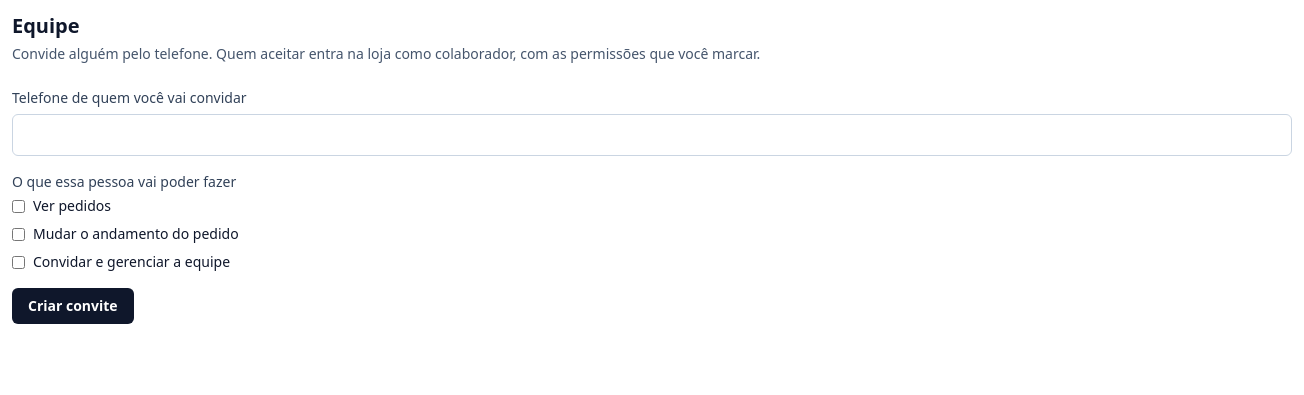
ConvidarParaEquipe › A6 · a recusa da A2 na emissão vai à tela como veio
Type "(81) 98765-4321" into the field labelled "Telefone de quem você vai convidar" at (652, 135), box [12, 114, 1292, 156]
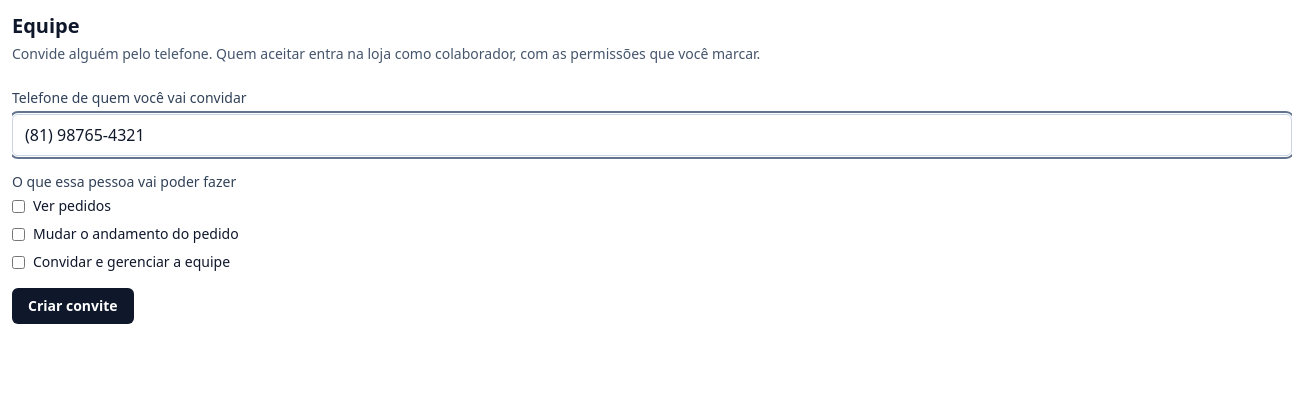
Click the checkbox labelled "Ver pedidos" at (18, 206), box [12, 200, 25, 212]
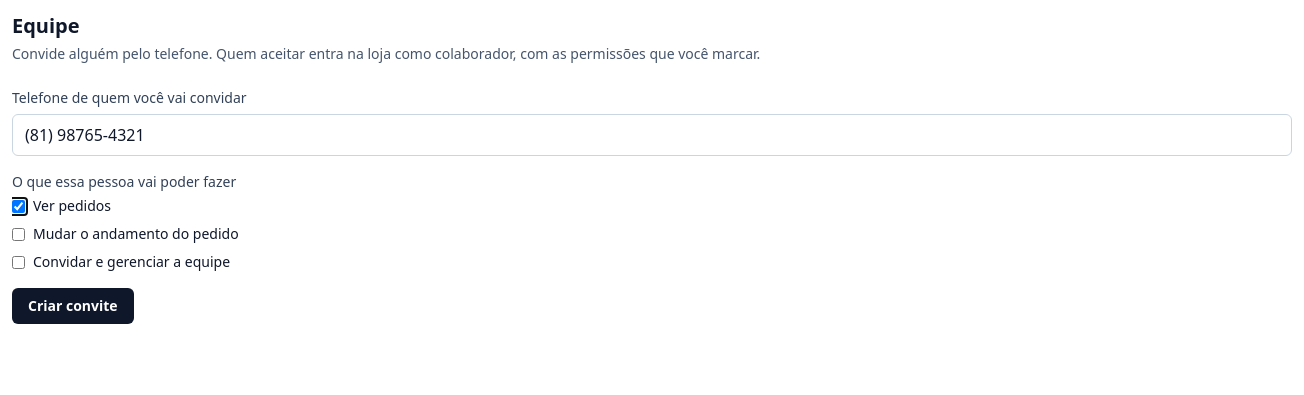
Click the button "Criar convite" at (73, 306), box [12, 288, 134, 324]
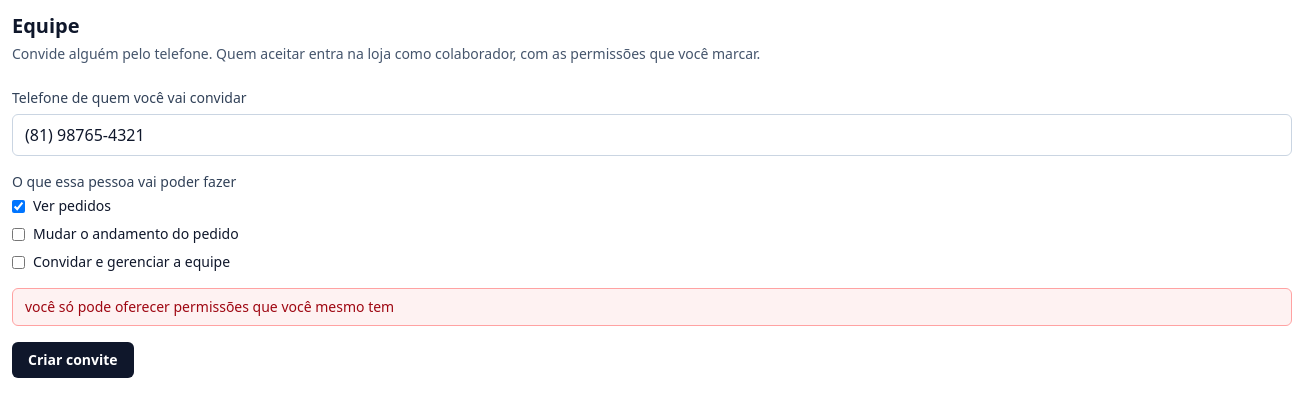
Expected: the message reads "você só pode oferecer permissões que você mesmo tem", [25, 297, 394, 316]
